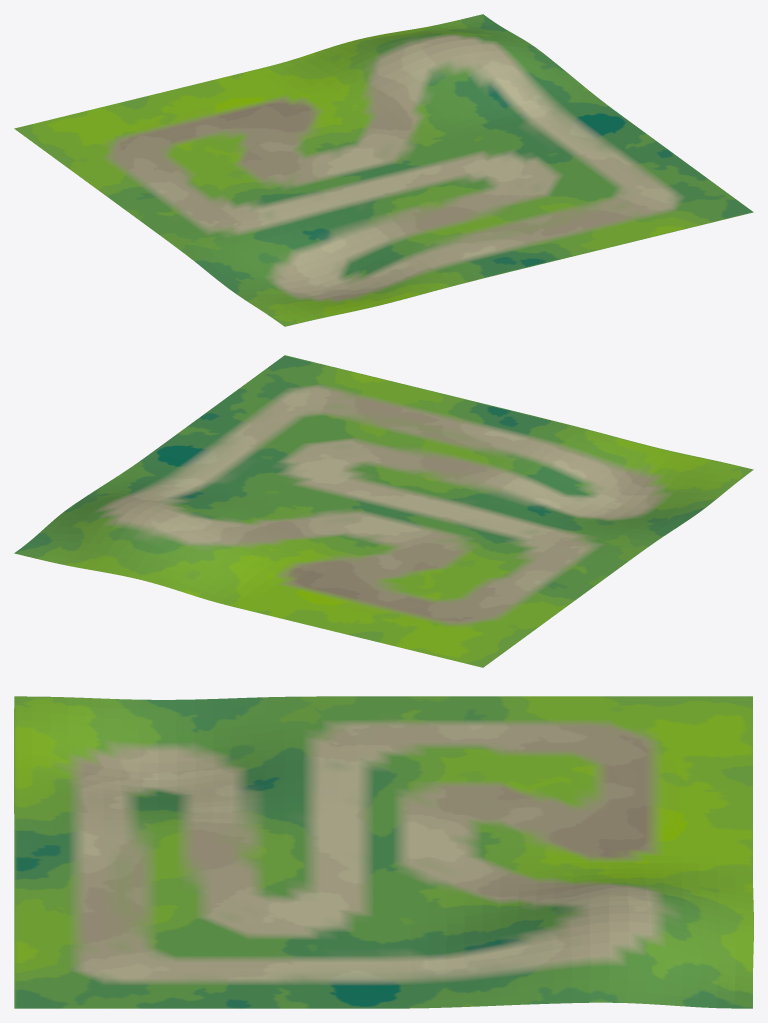
The model's file is BeginnerGround.fbx.
3 views of the same model, one above another, from view 1: azimuth 30°, elevation 25°; view 2: azimuth 150°, elevation 25°; view 3: azimuth 270°, elevation 25° (orthographic). The views are drawn at different scales.
Visible parts, largest first — view 1: Ground; view 2: Ground; view 3: Ground.
Part boxes in pixels (x1,y1,x2,y2): Ground: [14, 14, 753, 326]; Ground: [14, 355, 753, 667]; Ground: [14, 696, 753, 1008].
Bounding box in the file's own units: 9854 × 837 × 9852.
Materials: 1 (1 with a texture image).
